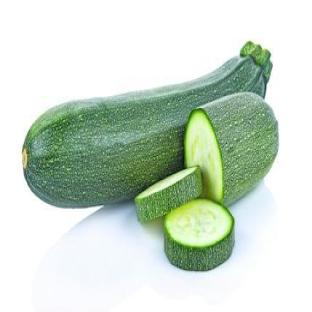Zucchini: (23, 44, 271, 207), (184, 93, 278, 205), (165, 200, 234, 271), (135, 167, 202, 221)
